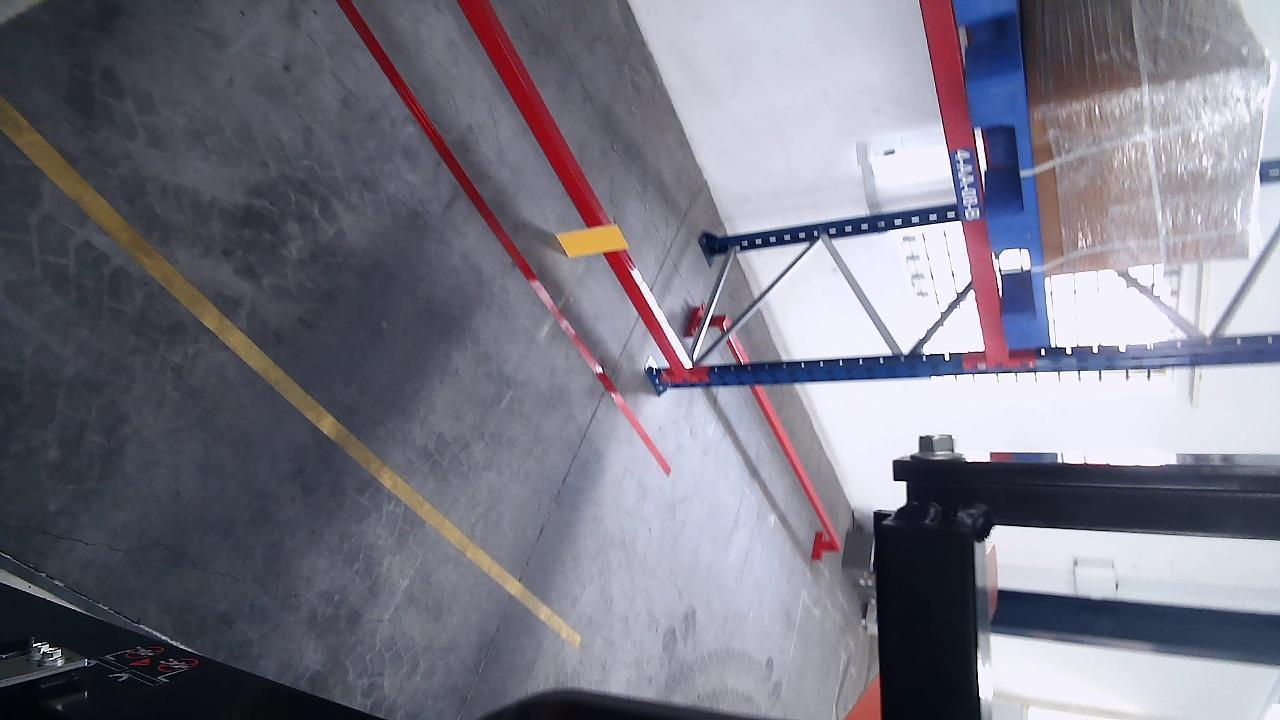red_line: (336, 0, 671, 479)
yellow_line: (0, 100, 581, 646)
